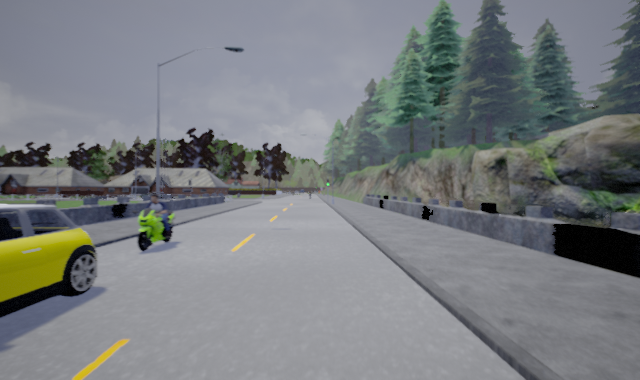motobike: (134, 193, 176, 252)
vehicle: (1, 204, 98, 320)
